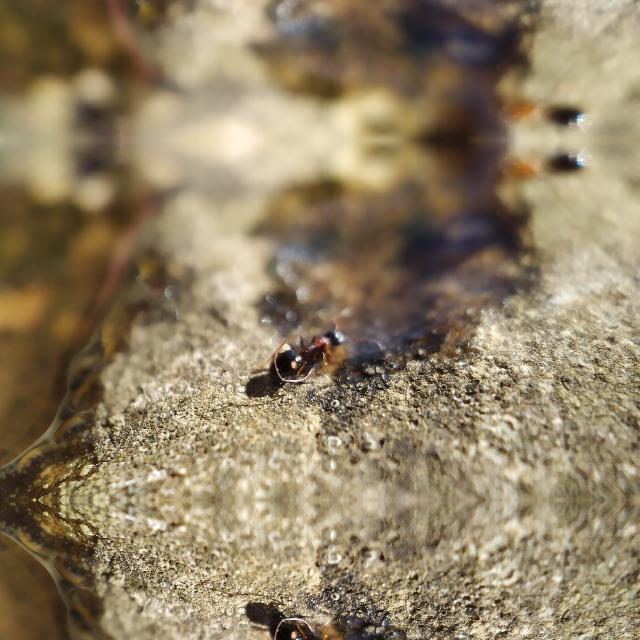Dolichoderus: (252, 316, 368, 388), (252, 610, 366, 640)
